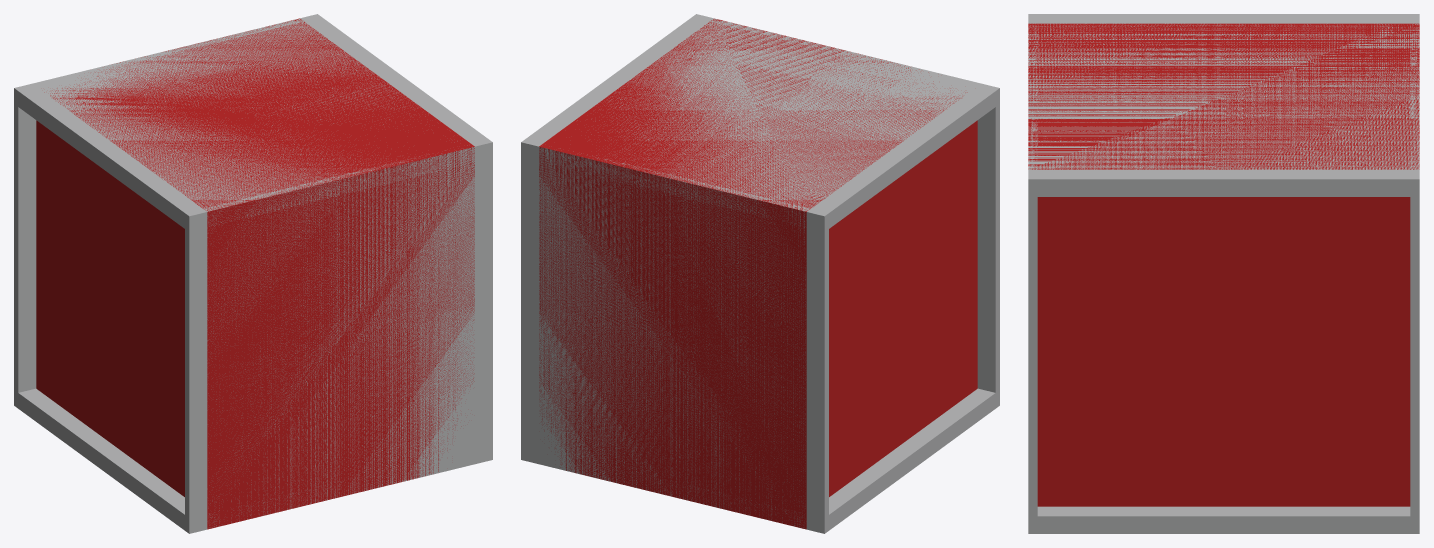
Rendered from banner.glb.
The picture shows the model from 3 angles, left to right: view 1: azimuth 30°, elevation 25°; view 2: azimuth 150°, elevation 25°; view 3: azimuth 270°, elevation 25°; orthographic projection. The views are drawn at different scales.
Parts seen in each view (by area): view 1: banner_red, banner_trim; view 2: banner_red, banner_trim; view 3: banner_red, banner_trim.
Part boxes in pixels (<box>): banner_red: <box>36,18,474,529</box>; banner_trim: <box>14,14,492,533</box>; banner_red: <box>539,18,977,529</box>; banner_trim: <box>521,14,999,533</box>; banner_red: <box>1028,23,1419,506</box>; banner_trim: <box>1028,14,1419,533</box>.
Size of the model in its own units: 1 by 1 by 1.
